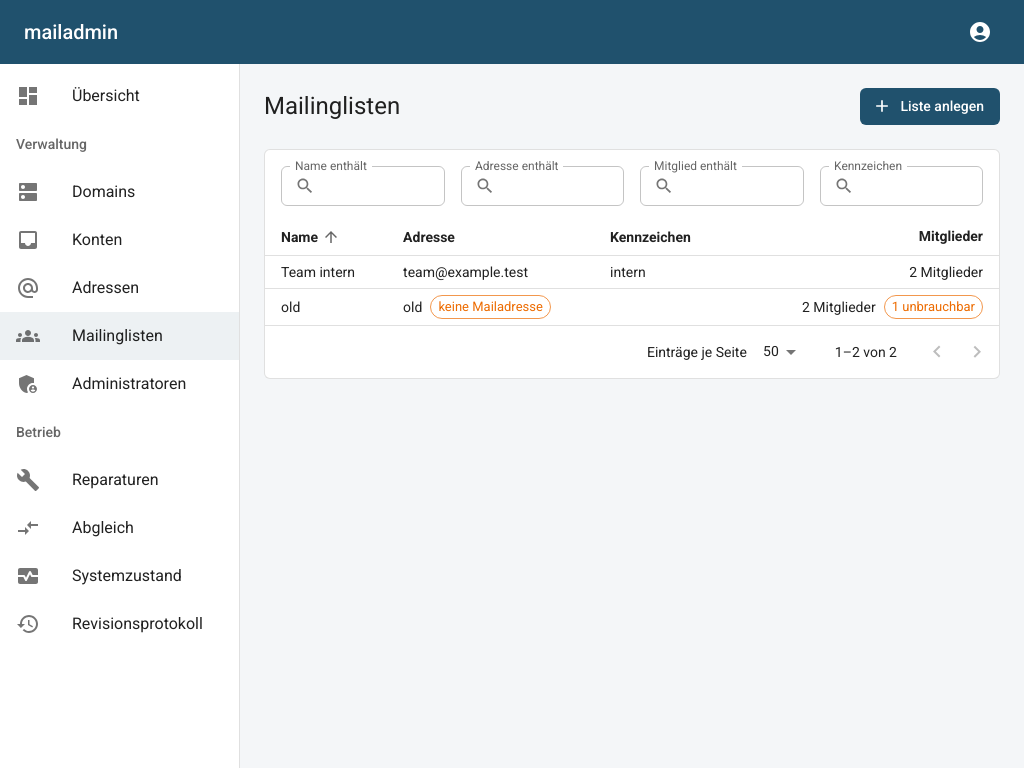
Scenario: the mailing list list › shows a refused member on the member field
Click the button "Liste anlegen". click: (930, 106)
box: [860,88,1000,124]
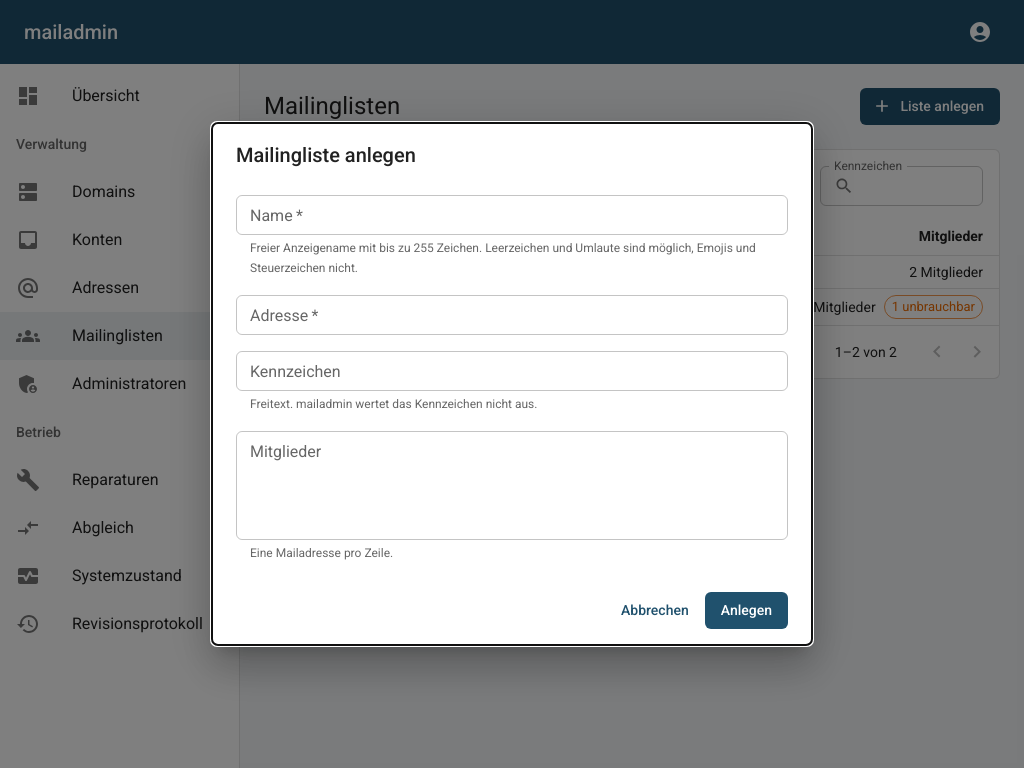
Type "new" into the field labelled "Name *". click: (512, 215)
box: [236,195,788,235]
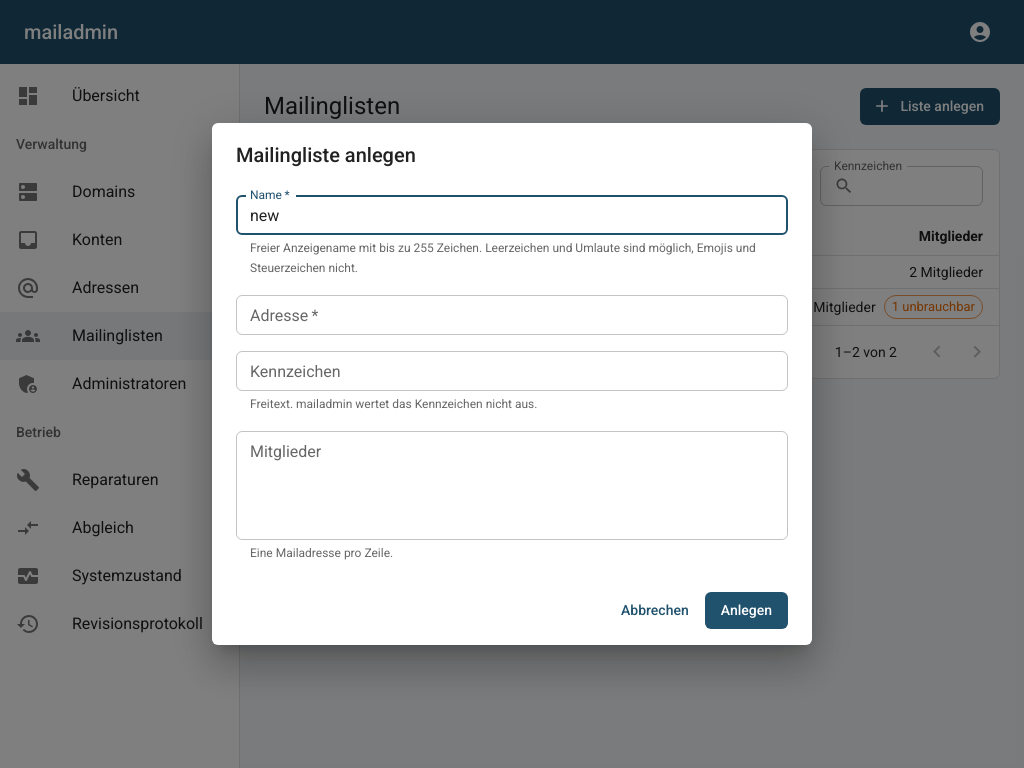
Type "new@example.test" into the field labelled "Adresse *". click: (512, 315)
box: [236,295,788,335]
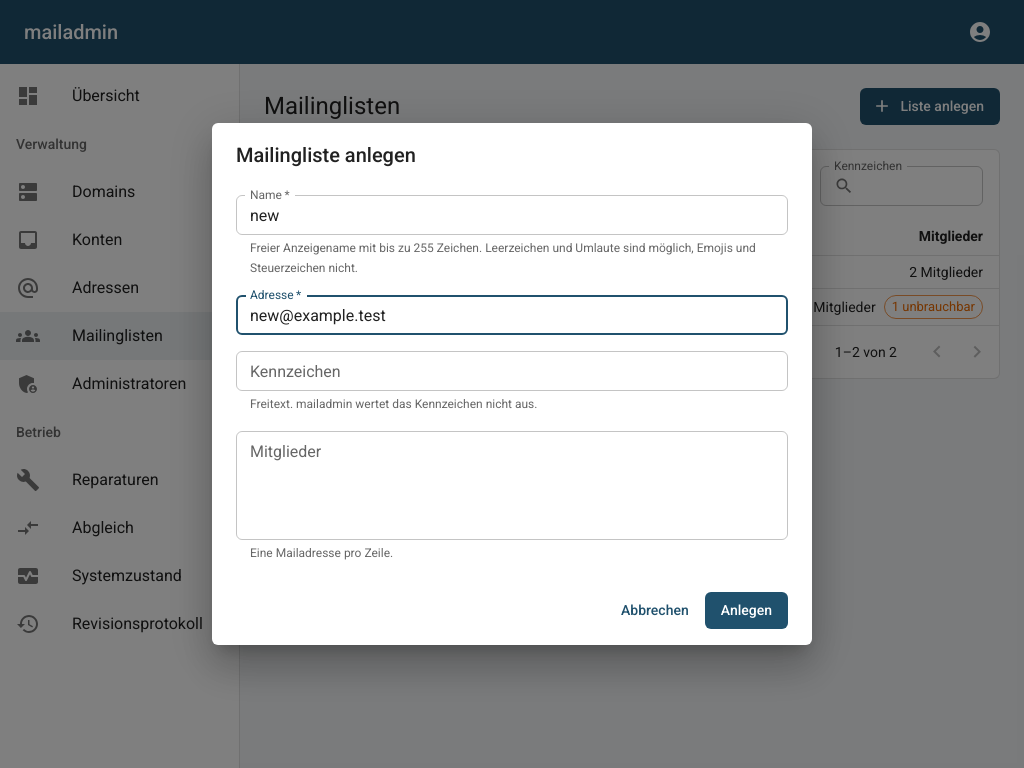
Type "|/bin/sh" into the text box labelled "Mitglieder". click: (512, 486)
box: [250,440,774,532]
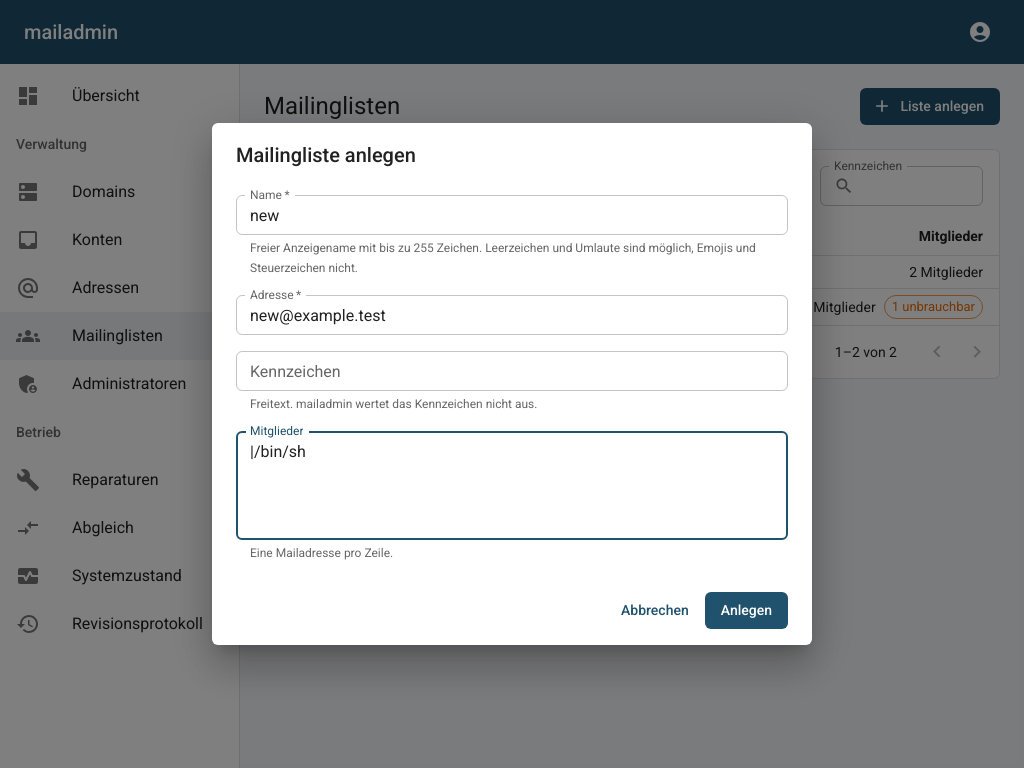
Click the button "Anlegen". click: (746, 610)
box: [705,592,788,629]
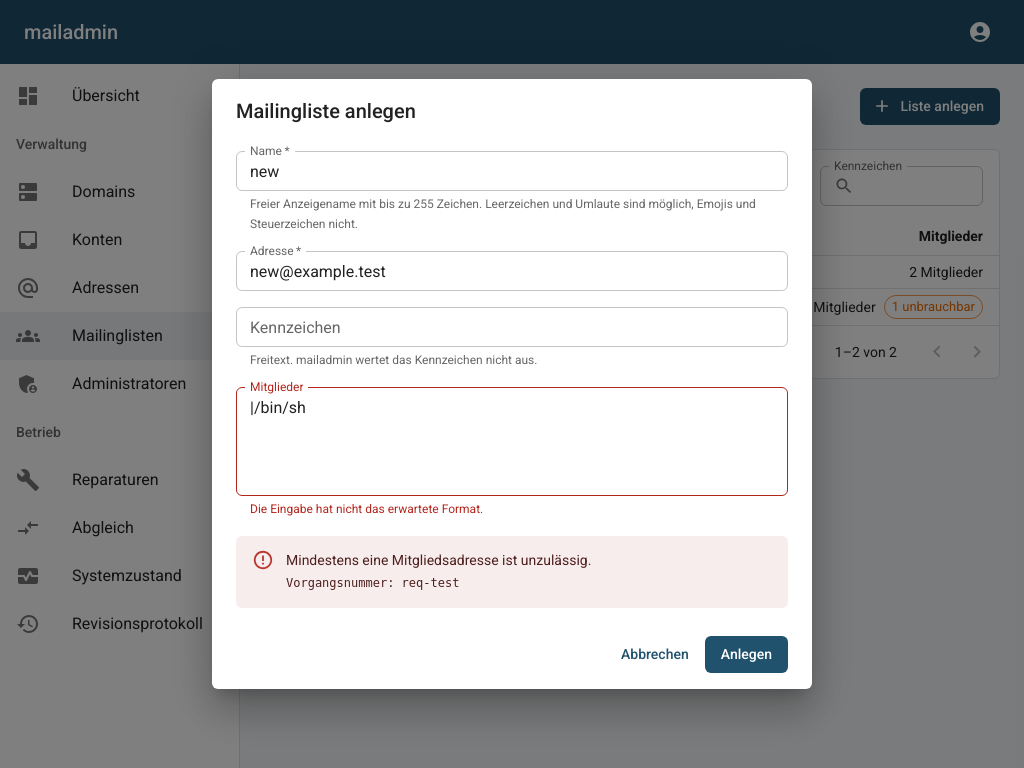
Expected: the text "Mindestens eine Mitgliedsadresse ist unzulässig." is shown, [286,550,591,570]
Expected: the text "Die Eingabe hat nicht das erwartete Format." is shown, [250,502,483,516]
